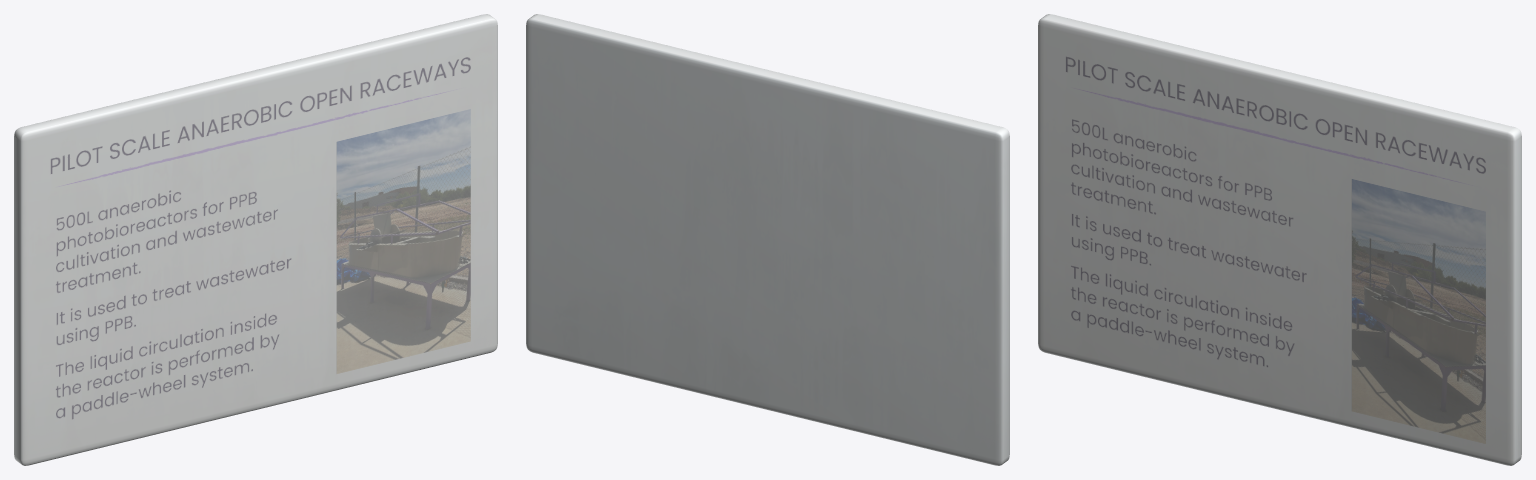
The model's file is Cartel_PSAOR.glb.
3 renders of one model, left to right at view 1: azimuth 30°, elevation 25°; view 2: azimuth 150°, elevation 25°; view 3: azimuth 330°, elevation 25°, orthographic.
Parts seen in each view (by area): view 1: Box011; view 2: Box011; view 3: Box011.
Boxes of the visible parts, <box> form: Box011: <box>14,14,497,465</box>; Box011: <box>526,14,1009,465</box>; Box011: <box>1038,14,1521,465</box>.
Bounding box in the file's own units: 1.1 × 0.7335 × 0.0348.
Materials: 1 (1 with a texture image).
